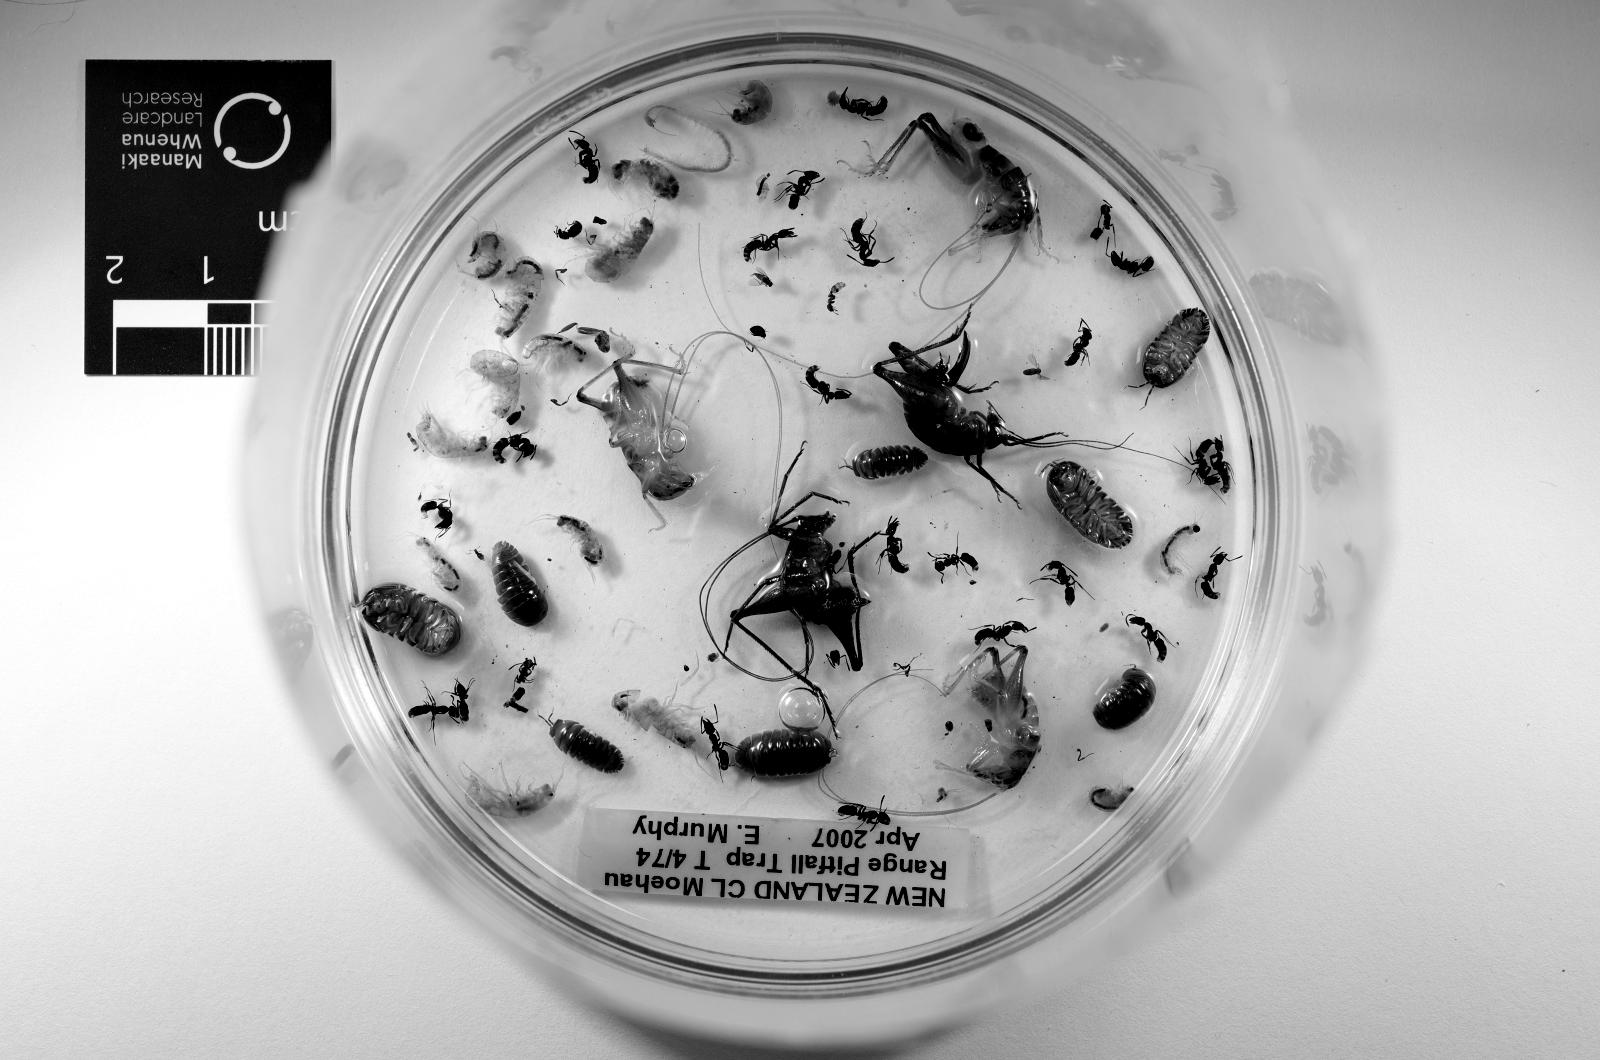amphipoda: (462, 764, 559, 816), (584, 218, 653, 283), (497, 258, 544, 338), (415, 409, 487, 459), (472, 351, 519, 419), (522, 332, 588, 373), (613, 159, 678, 199), (415, 537, 459, 593), (556, 516, 603, 565), (468, 230, 506, 279), (1162, 525, 1200, 575), (731, 80, 772, 124), (1088, 783, 1134, 814)
chilopoda: (643, 105, 731, 174)
coleoptera: (556, 220, 584, 239), (750, 327, 765, 338)
diptera: (750, 270, 772, 286)
formicidae: (699, 703, 736, 770), (847, 218, 894, 267), (1037, 562, 1084, 606), (1125, 615, 1168, 661), (934, 538, 978, 583), (1197, 550, 1235, 600), (744, 227, 797, 260), (881, 518, 909, 575), (807, 367, 850, 403), (569, 134, 600, 183), (782, 170, 822, 208), (974, 621, 1035, 646), (837, 799, 890, 826), (837, 90, 887, 118), (1191, 441, 1219, 485), (422, 497, 453, 537), (409, 702, 459, 726), (494, 435, 538, 463), (1210, 438, 1231, 493), (1065, 319, 1090, 367), (1109, 252, 1153, 277), (453, 680, 468, 724), (828, 283, 847, 314)
isopoda: (1047, 459, 1134, 550), (1144, 308, 1210, 388), (734, 730, 835, 776), (550, 720, 626, 774), (1094, 667, 1157, 730), (850, 444, 928, 481)
orthoptera: (693, 441, 872, 733), (864, 302, 1081, 508), (833, 111, 1055, 299), (570, 325, 726, 534), (934, 646, 1041, 791)
